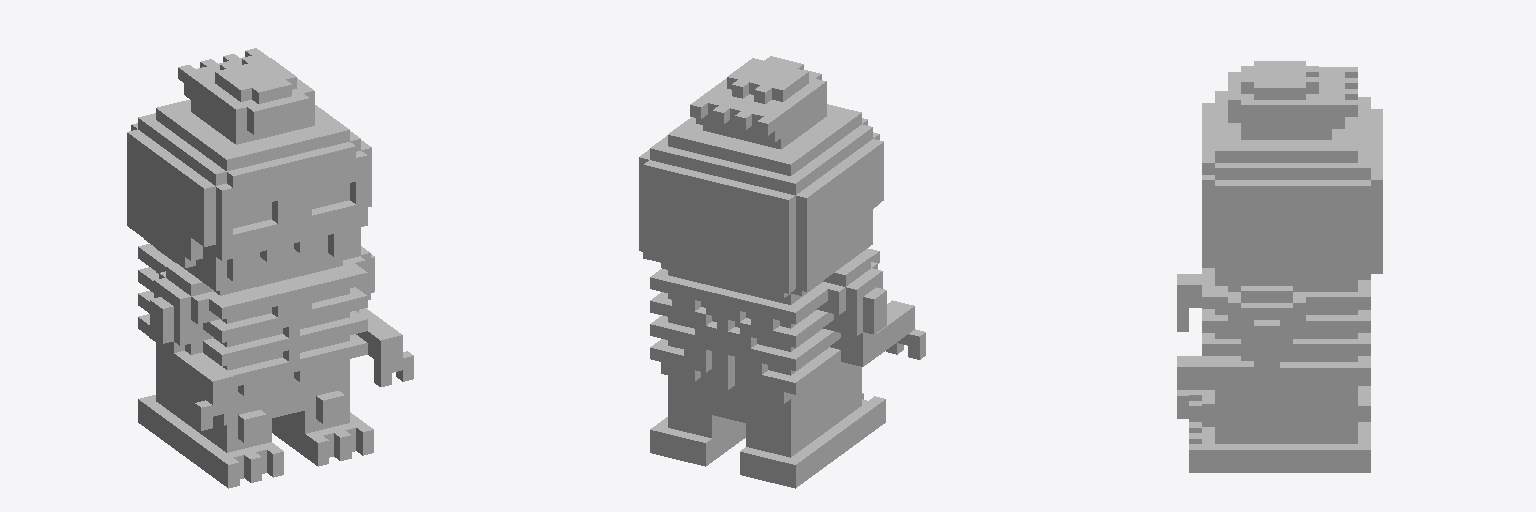
File: Package 01 Necro Dungeon-18.obj
3 views of the same model, side by side, from view 1: azimuth 30°, elevation 25°; view 2: azimuth 150°, elevation 25°; view 3: azimuth 270°, elevation 25° (orthographic).
Parts seen in each view (by area): view 1: object 1; view 2: object 1; view 3: object 1.
Boxes of the visible parts, <box> form: object 1: <box>127,48,413,488</box>; object 1: <box>639,56,925,488</box>; object 1: <box>1177,61,1382,472</box>.
Bounding box in the file's own units: 1.9 × 3.1 × 1.6.